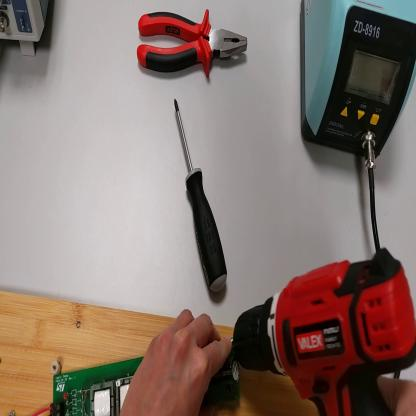electric screwdriver: (233, 250, 416, 416)
hand: (124, 308, 232, 413), (379, 376, 416, 412)
high voltage board: (35, 340, 242, 416)
oscilloscope: (2, 3, 54, 59)
pliers: (138, 4, 252, 76)
screwdriver-: (174, 95, 227, 297)
welder station: (300, 4, 415, 158)
working area: (2, 291, 321, 416)
